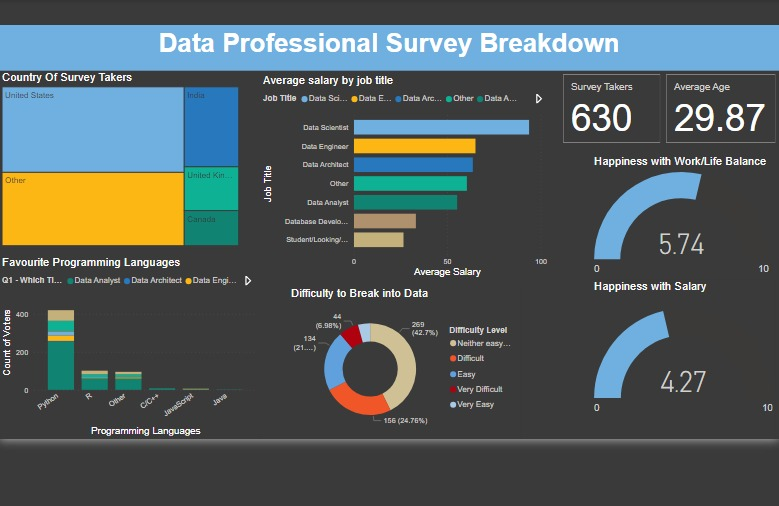

The dashboard page shown, as its layout file describes it:
{"tool":"powerbi","page":{"name":"Page 1","canvas":[1280,720],"ordinal":0},"visuals":[{"type":"cardVisual","fields":{"Data":["Avg(Data Professional Survey.Q10 - Current Age)"]},"box":[1090,116.7,190,123.3],"z":0},{"type":"textbox","box":[0,41.7,1280,75],"z":1000},{"type":"cardVisual","fields":{"Data":["Count(Data Professional Survey.Unique ID)"]},"box":[920,116.7,170,123.3],"z":2000},{"type":"barChart","title":"Average salary  by job title","fields":{"Y":["Avg(Data Professional Survey.Average Salary)"],"Category":["Data Professional Survey.Q1 - Which Title Best Fits your Current Role?.1"],"Series":["Data Professional Survey.Q1 - Which Title Best Fits your Current Role?.1"]},"box":[428.3,121.7,476.7,338.3],"z":3000},{"type":"columnChart","title":"Favourite Programming Languages","fields":{"Category":["Data Professional Survey.Q5 - Favorite Programming Language.1"],"Y":["CountNonNull(Data Professional Survey.Unique ID)"],"Series":["Data Professional Survey.Q1 - Which Title Best Fits your Current Role?.1"]},"box":[0,420,428.3,300],"z":3001},{"type":"treemap","title":"Country Of Survey Takers ","fields":{"Group":["Data Professional Survey.Q11 - Which Country do you live in?.1"],"Values":["CountNonNull(Data Professional Survey.Q11 - Which Country do you live in?.1)"]},"box":[0,116.7,398.3,291.7],"z":3002},{"type":"gauge","title":"Happiness with Work/Life Balance","fields":{"Y":["Avg(Data Professional Survey.Q6 - How Happy are you in your Current Position with the following? (Work/Life Balance))"],"MaxValue":["Max(Data Professional Survey.Q6 - How Happy are you in your Current Position with the following? (Work/Life Balance))1"],"MinValue":["Min(Data Professional Survey.Q6 - How Happy are you in your Current Position with the following? (Work/Life Balance))2"]},"box":[971.7,255,296.7,205],"z":3003},{"type":"gauge","title":"Happiness with Salary","fields":{"Y":["Avg(Data Professional Survey.Q6 - How Happy are you in your Current Position with the following? (Salary))"],"MaxValue":["Max(Data Professional Survey.Q6 - How Happy are you in your Current Position with the following? (Salary))1"],"MinValue":["Min(Data Professional Survey.Q6 - How Happy are you in your Current Position with the following? (Salary))2"]},"box":[971.7,460,303.3,246.7],"z":3004},{"type":"donutChart","title":"Difficulty to Break into Data ","fields":{"Category":["Data Professional Survey.Q7 - How difficult was it for you to break into Data?","Data Professional Survey.Q1 - Which Title Best Fits your Current Role?.1"],"Y":["CountNonNull(Data Professional Survey.Q7 - How difficult was it for you to break into Data?)"]},"box":[475,471.7,381.7,248.3],"z":3005}]}

Visuals, with their boxes in screenshot pixels (x1, y1, x2, y2):
cardVisual - Avg(Data Professional Survey.Q10 - Current Age): l=678, t=69, r=778, b=145
textbox: l=0, t=22, r=778, b=69
cardVisual - Count(Data Professional Survey.Unique ID): l=572, t=69, r=678, b=145
"Average salary  by job title" barChart: l=267, t=72, r=563, b=282
"Favourite Programming Languages" columnChart: l=0, t=257, r=267, b=444
"Country Of Survey Takers " treemap: l=0, t=69, r=248, b=250
"Happiness with Work/Life Balance" gauge: l=605, t=155, r=778, b=282
"Happiness with Salary" gauge: l=605, t=282, r=778, b=436
"Difficulty to Break into Data " donutChart: l=296, t=289, r=533, b=444
